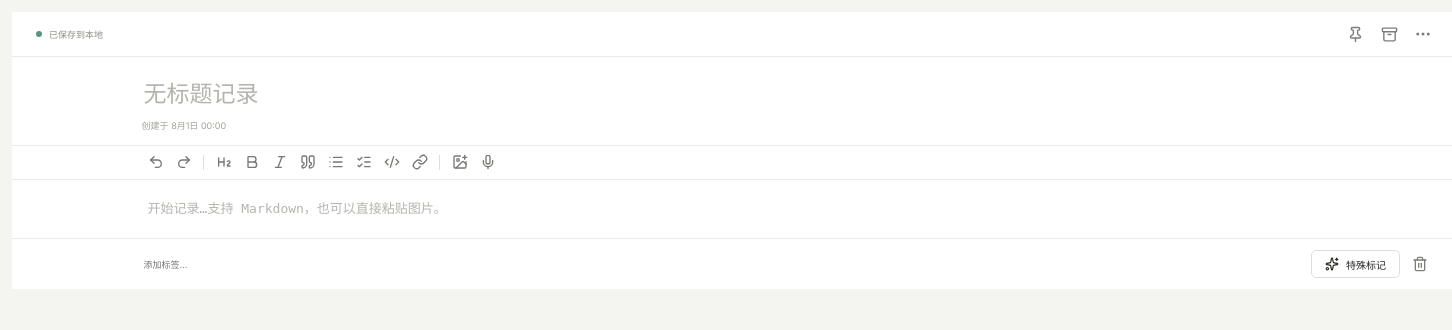
applies Markdown formatting at the cursor and uses the editor history
This screenshot has width=1452, height=330.
Click the button named "粗体": {"x": 251, "y": 162} [238,149,265,176]
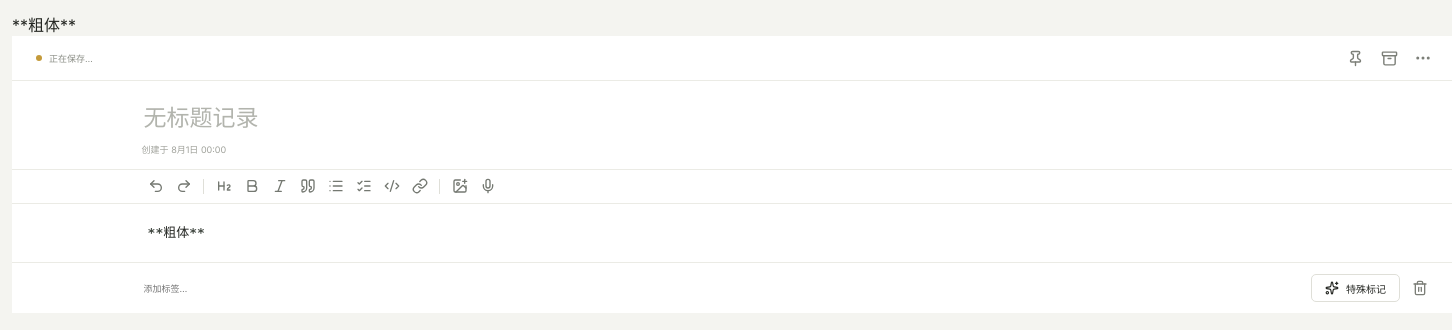
Result: the text with test id "markdown" reads "**粗体**" at [12,15,76,35]
Click the button named "撤销": {"x": 155, "y": 186} [142,173,169,200]
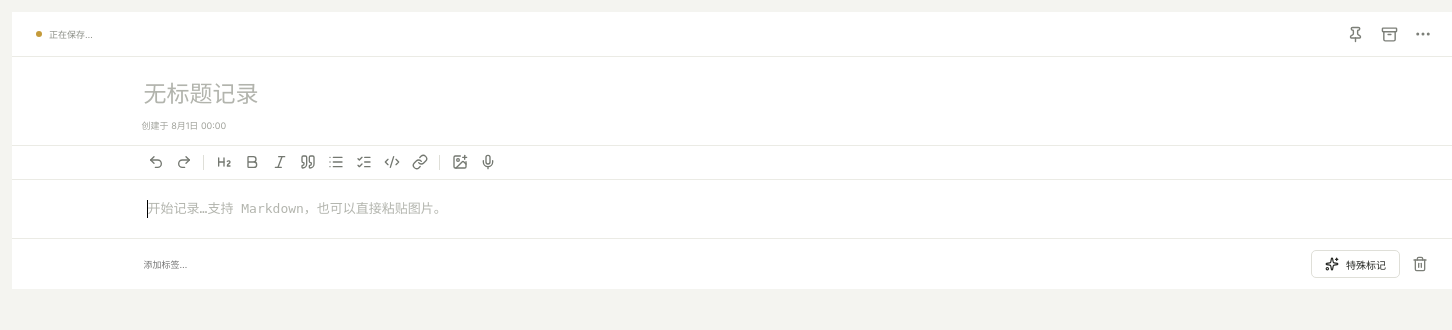
Click the button named "二级标题": {"x": 223, "y": 162} [210,149,237,176]
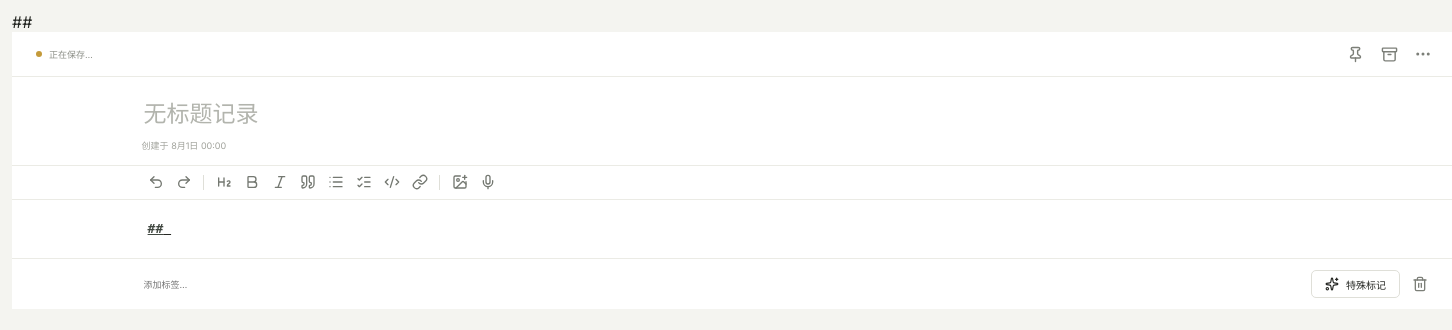
Result: the text with test id "markdown" reads "##" at [12,12,32,32]
